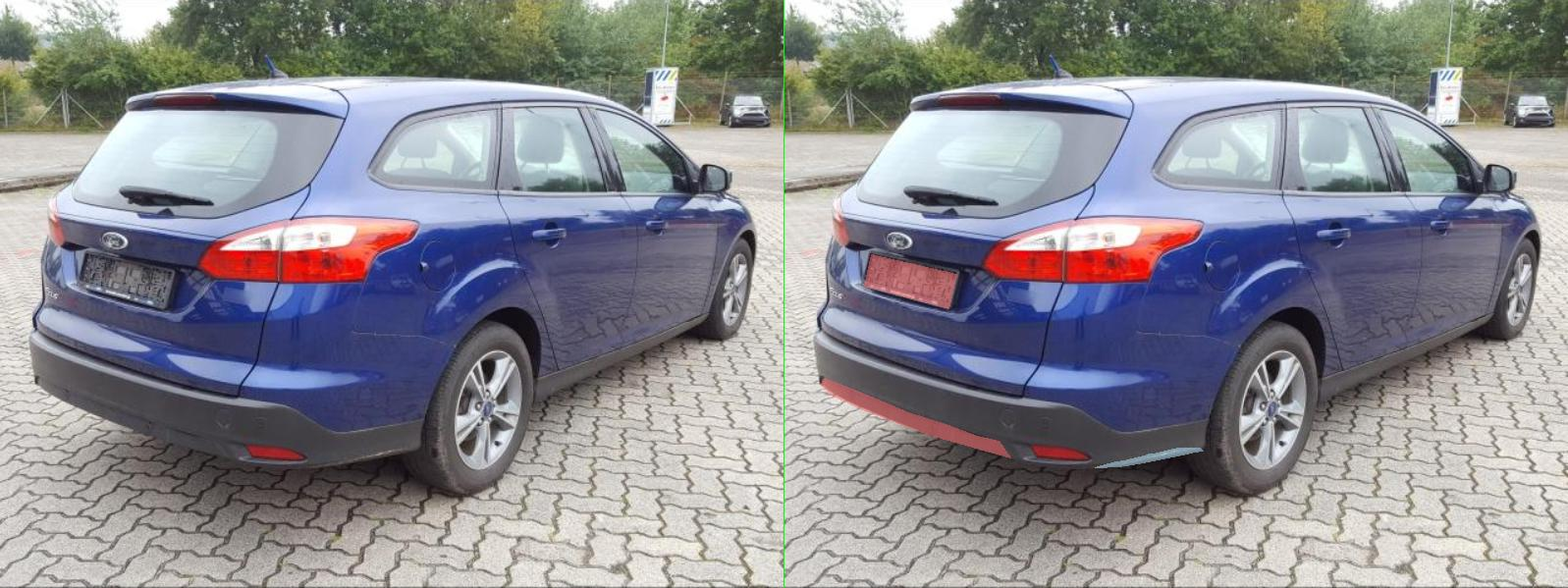Corrosion: (621, 448, 837, 467)
Missing part: (71, 378, 452, 457), (159, 254, 344, 308)
